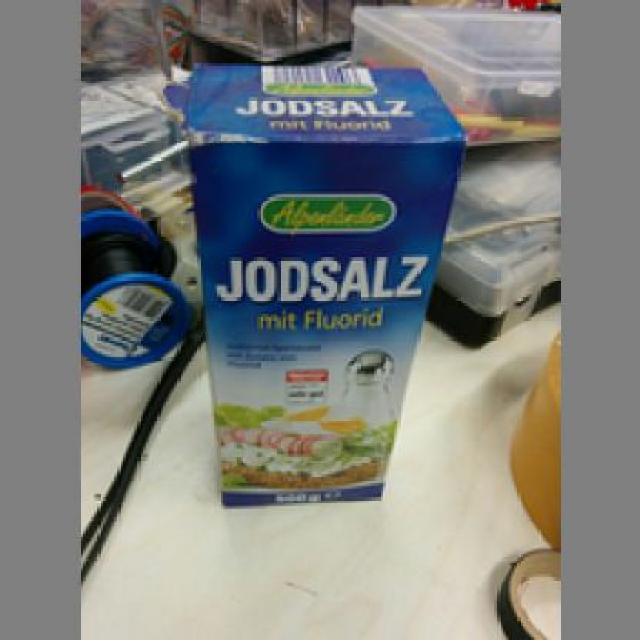Spices: (180, 57, 466, 506)
